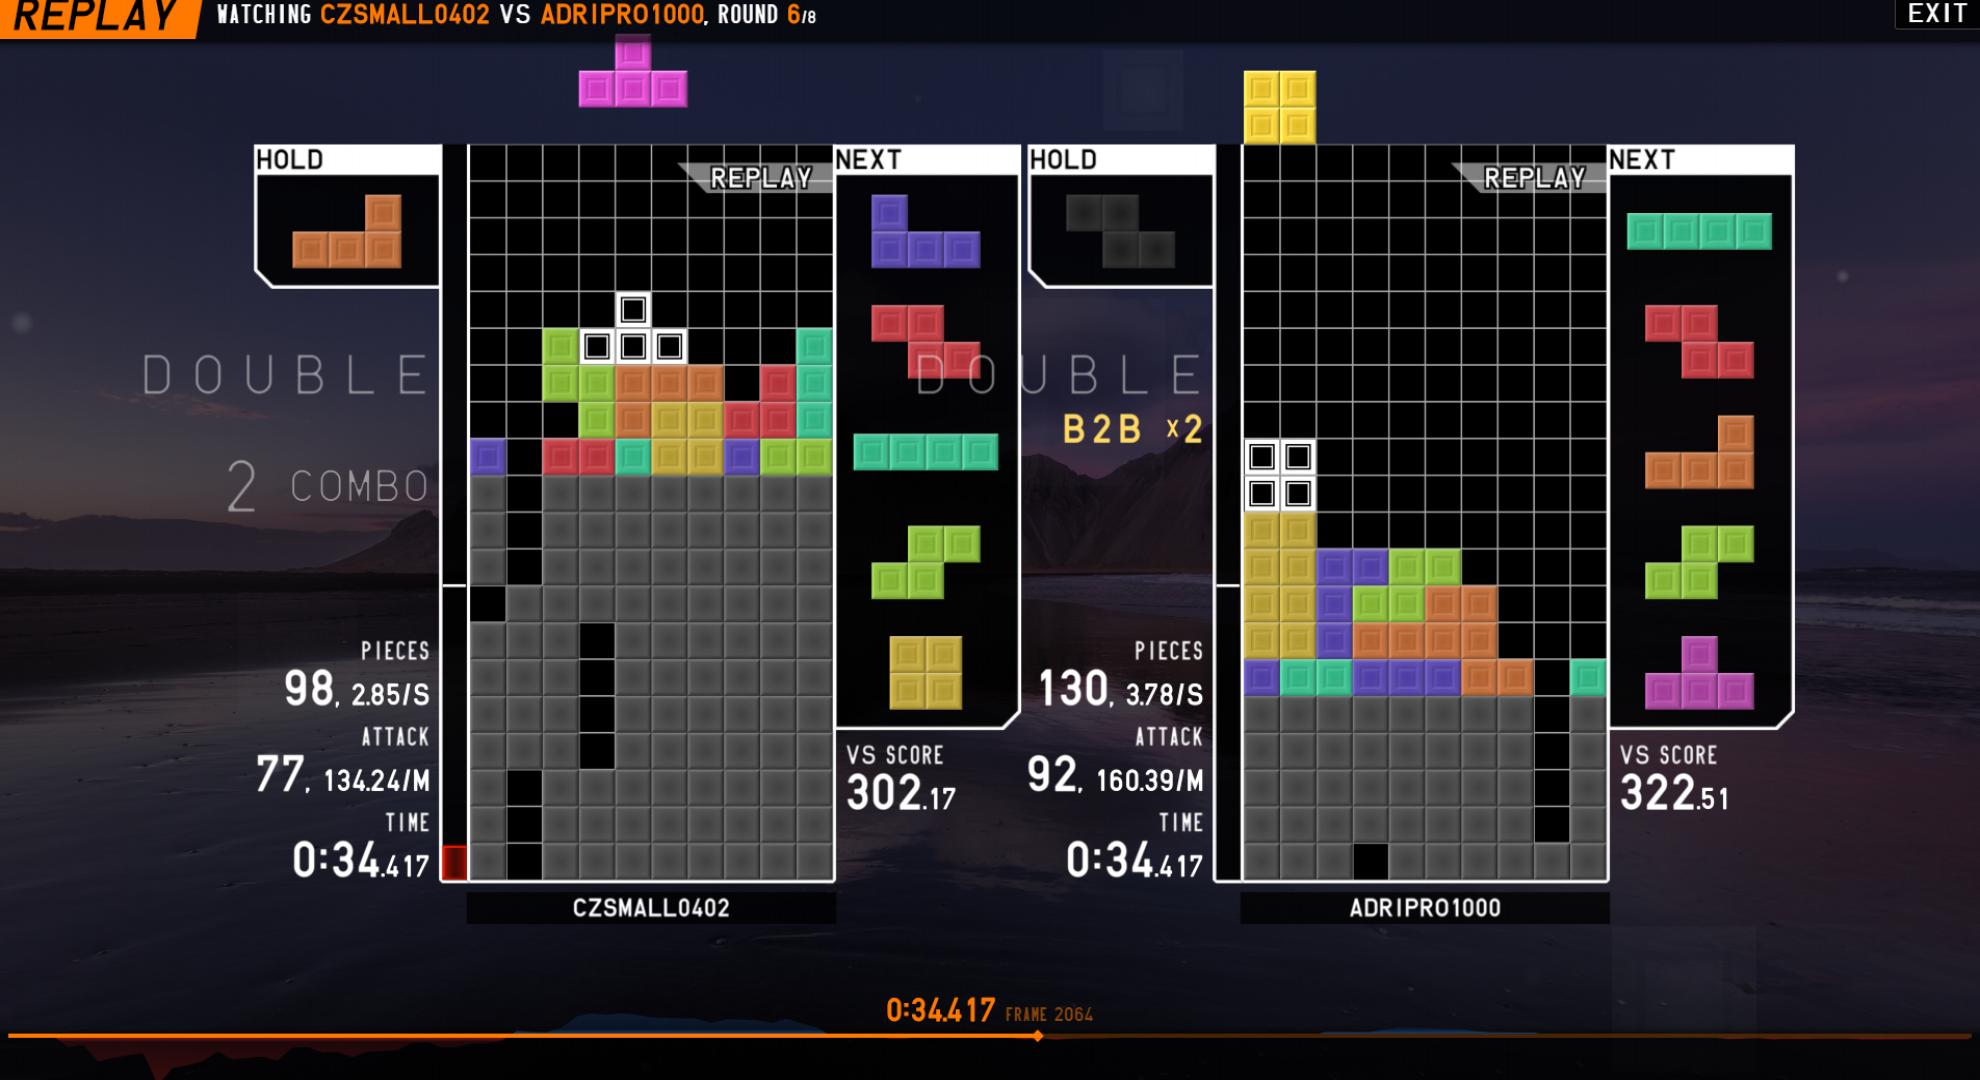tspin: (477, 359, 581, 476)
